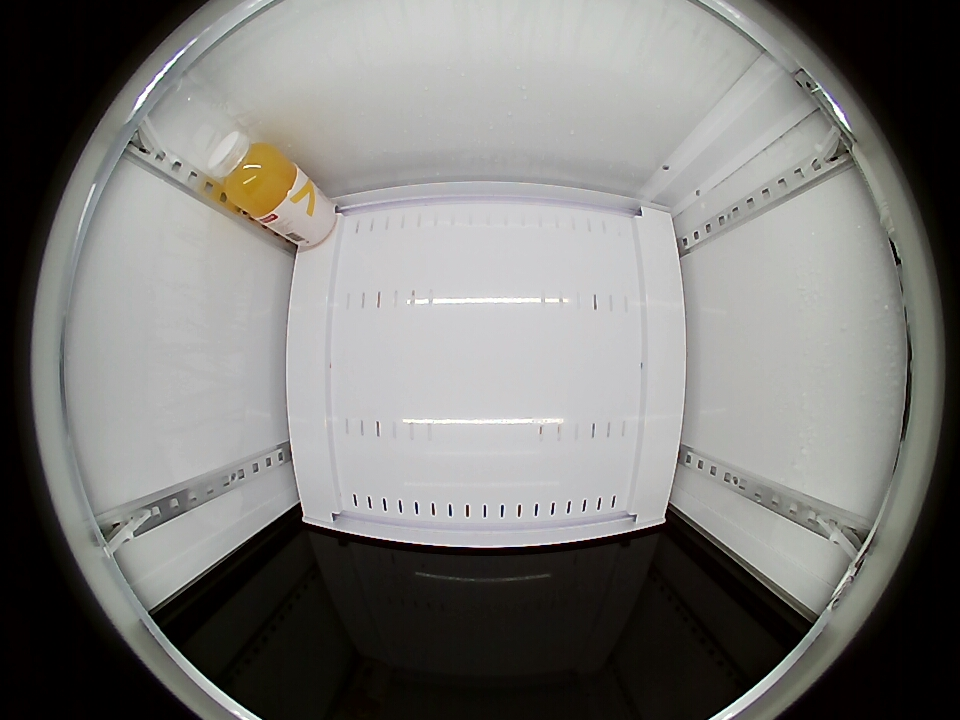weic: (206, 132, 297, 218)
